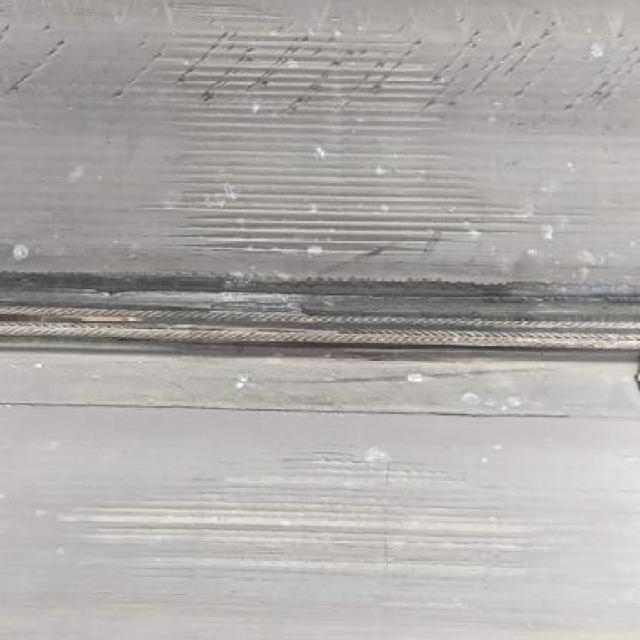Tear: (0, 265, 640, 370)
Wear: (101, 15, 588, 274), (48, 424, 558, 614)
